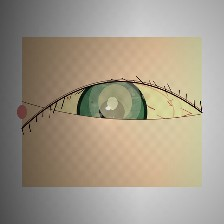corneal_ulcer: (85, 79, 145, 126)
